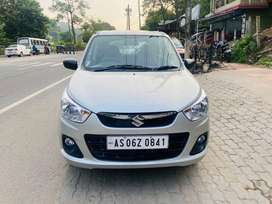AS06Z0841: (106, 135, 168, 149)
